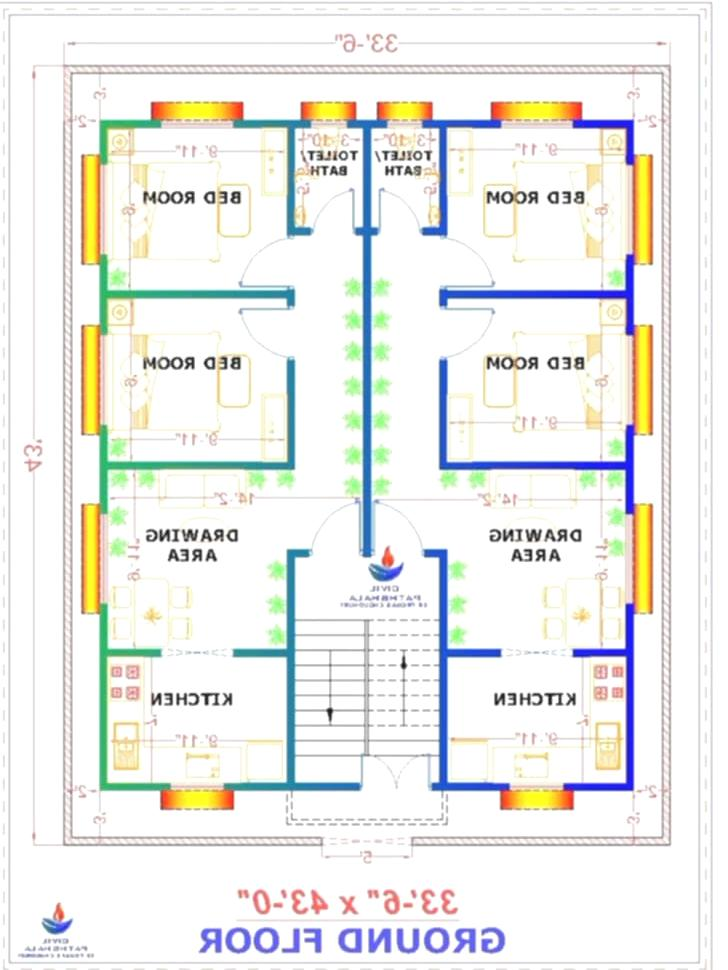Blueprint: (93, 110, 642, 796)
